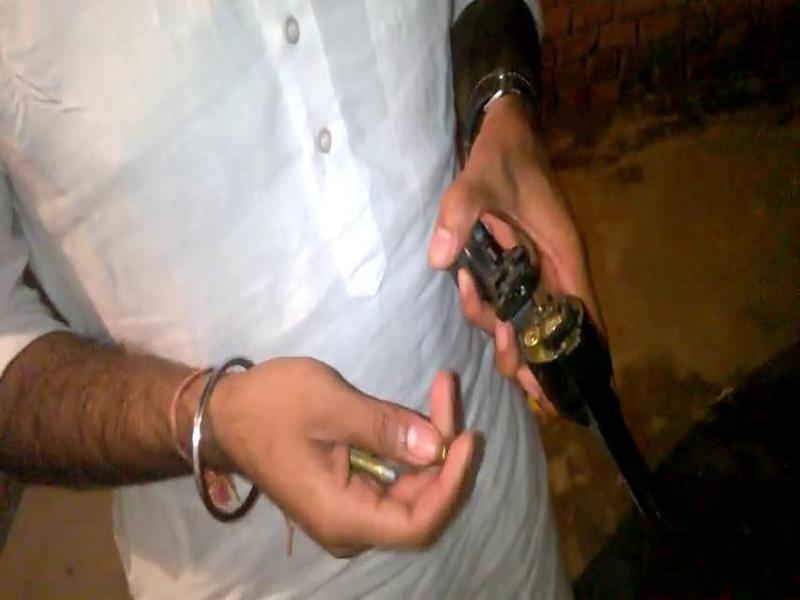Revolver: (439, 183, 705, 563)
